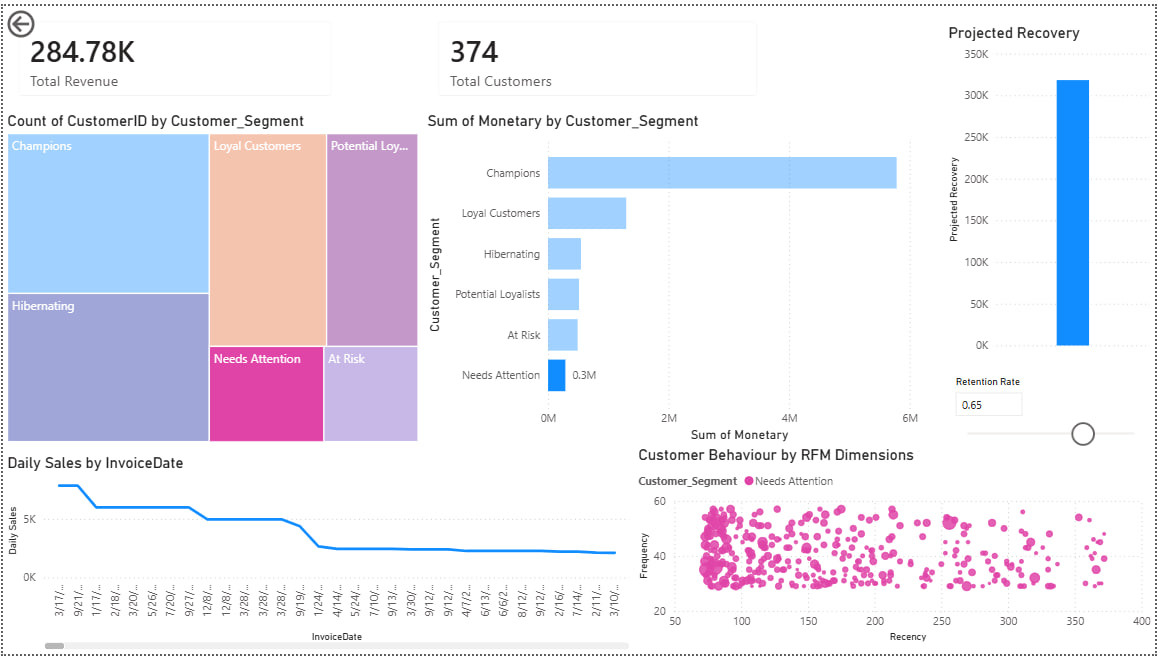

This screenshot's page, from the dashboard's own definition file:
{"tool":"powerbi","page":{"name":"Page 1","canvas":[1280,720],"ordinal":0},"visuals":[{"type":"treemap","fields":{"Group":["Fact_RFM.Customer_Segment"],"Values":["CountNonNull(Fact_RFM.CustomerID)"]},"box":[0,117.5,466.2,371.2],"z":0},{"type":"clusteredBarChart","fields":{"Category":["Fact_RFM.Customer_Segment"],"Y":["Sum(Fact_RFM.Monetary)"]},"box":[466.2,117.5,578.8,371.2],"z":1},{"type":"cardVisual","fields":{"Data":["Sum(Fact_RFM.Monetary)"]},"box":[0,0,466.2,117.5],"z":2},{"type":"cardVisual","fields":{"Data":["CountNonNull(Fact_RFM.CustomerID)"]},"box":[468.8,0,576.2,117.5],"z":3},{"type":"lineChart","fields":{"Y":["Sum(Fact_RFM.Monetary)"],"Category":["data.InvoiceDate"]},"box":[0,498.2,1170,221.8],"z":4},{"type":"slicer","fields":{"Values":["Retention Rate.Retention Rate"]},"box":[1045,498.8,235,102.5],"z":5},{"type":"actionButton","box":[0,0,100,40],"z":6},{"type":"clusteredColumnChart","fields":{"Y":["Fact_RFM.Projected Recovery"]},"box":[1045,117.5,235,371.2],"z":7}]}

Visuals, with their boxes in screenshot pixels (x1, y1, x2, y2), scaled from the page's 1280x720 canvas onto the 1158x656 screenshot:
treemap - Fact_RFM.Customer_Segment x CountNonNull(Fact_RFM.CustomerID): 0/107/422/445
clusteredBarChart - Fact_RFM.Customer_Segment x Sum(Fact_RFM.Monetary): 422/107/945/445
cardVisual - Sum(Fact_RFM.Monetary): 0/0/422/107
cardVisual - CountNonNull(Fact_RFM.CustomerID): 424/0/945/107
lineChart - Sum(Fact_RFM.Monetary) x data.InvoiceDate: 0/454/1058/655
slicer - Retention Rate.Retention Rate: 945/454/1157/548
actionButton: 0/0/90/36
clusteredColumnChart - Fact_RFM.Projected Recovery: 945/107/1157/445
